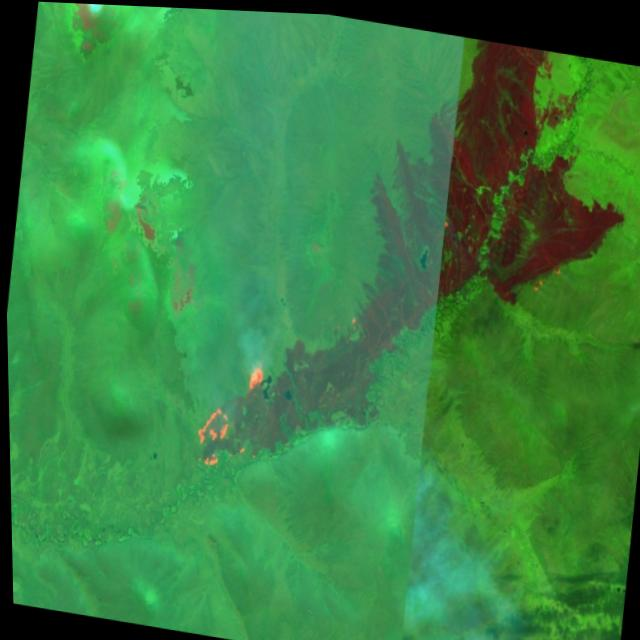fire: (186, 392, 233, 473), (239, 353, 270, 395)
